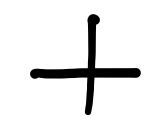plus: (30, 14, 141, 114)
